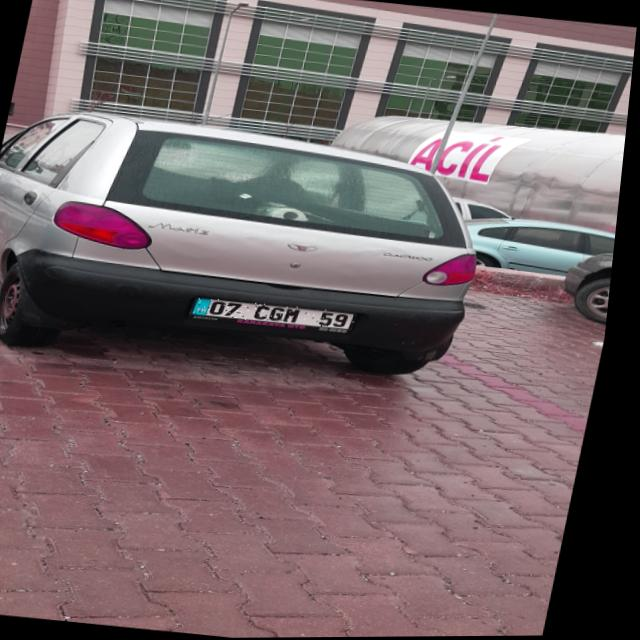license_plate: (195, 296, 364, 332)
